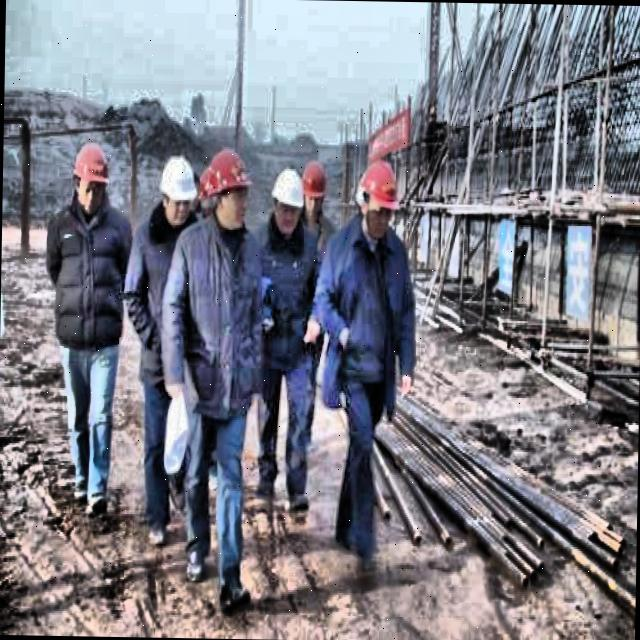helmet: (202, 146, 250, 230), (356, 156, 399, 238), (71, 138, 111, 214), (156, 153, 196, 223), (295, 157, 330, 225), (272, 165, 304, 232)
